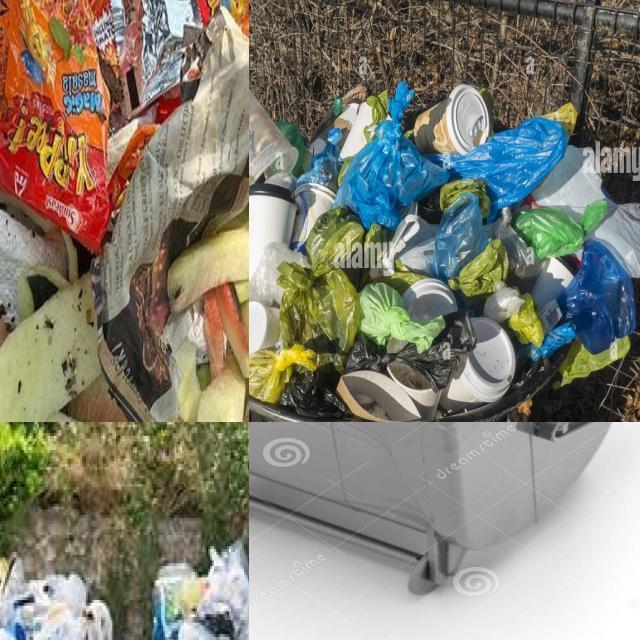Disposable: (440, 317, 515, 412), (415, 84, 492, 154), (249, 183, 297, 282), (249, 88, 297, 186), (290, 183, 335, 255), (402, 278, 457, 321), (532, 257, 573, 308), (249, 302, 280, 355)
Garbage: (249, 83, 640, 422), (148, 533, 249, 640), (0, 559, 112, 640)
Plastic_Bag: (334, 81, 568, 230), (279, 311, 477, 418), (279, 205, 364, 355), (558, 239, 635, 353), (433, 192, 508, 298), (358, 283, 444, 352), (512, 200, 609, 259), (532, 146, 607, 220), (249, 343, 317, 403), (589, 198, 640, 278), (249, 243, 310, 308)
contaminated_waste: (0, 554, 111, 640), (159, 540, 249, 640)
